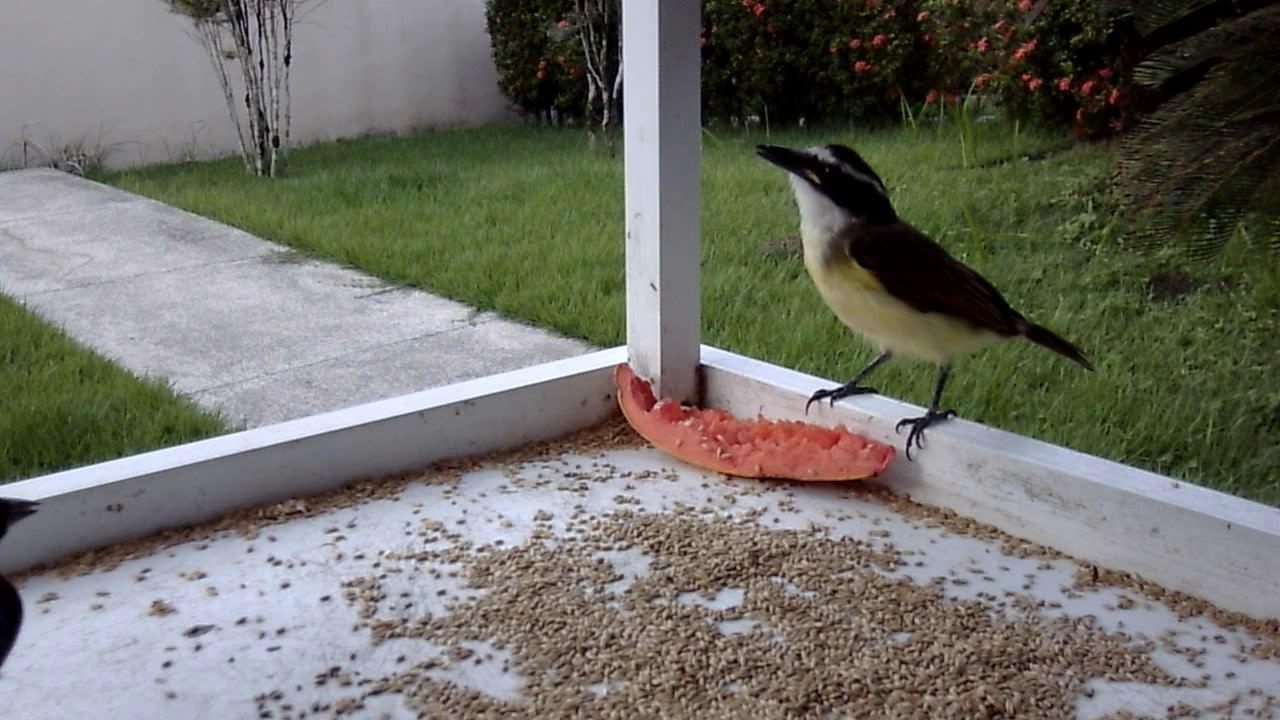bem_te_vi: (747, 130, 1100, 475)
